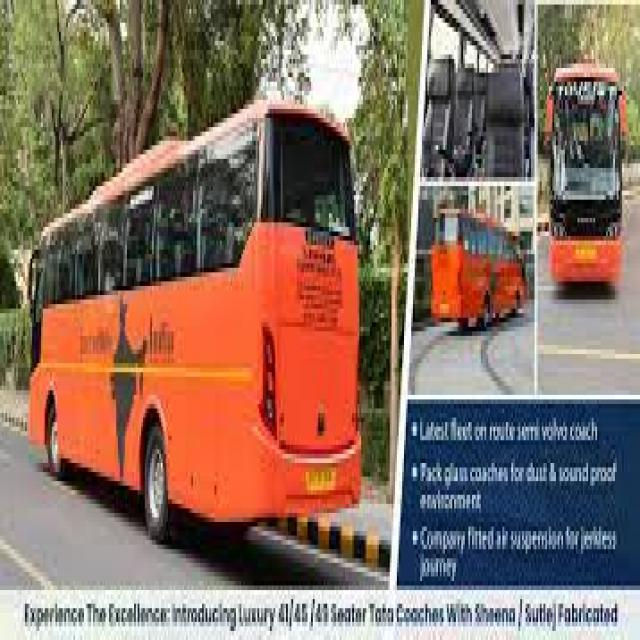Bus: (28, 232, 355, 543)
